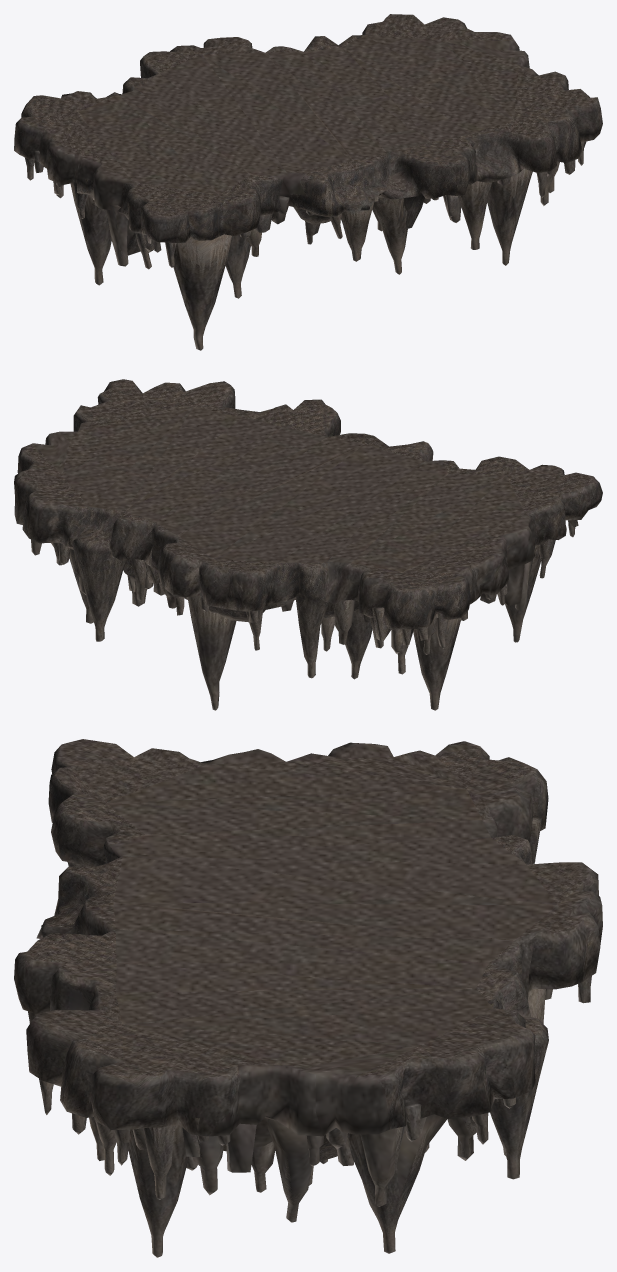
The model's file is stalactite-vault.glb.
The picture shows the model from 3 angles, top to bottom: view 1: azimuth 30°, elevation 25°; view 2: azimuth 150°, elevation 25°; view 3: azimuth 270°, elevation 25°; orthographic projection. The views are drawn at different scales.
Visible parts, largest first — view 1: stalactite-vault-v2_LOD0; view 2: stalactite-vault-v2_LOD0; view 3: stalactite-vault-v2_LOD0.
Boxes of the visible parts, x1,y1,x2,y2 form: stalactite-vault-v2_LOD0: (14, 14, 602, 350); stalactite-vault-v2_LOD0: (14, 379, 602, 710); stalactite-vault-v2_LOD0: (14, 739, 602, 1257).
Size of what is drawn, in the model's own units: 1 by 0.3659 by 0.7406.
1 material, 1 textured.
